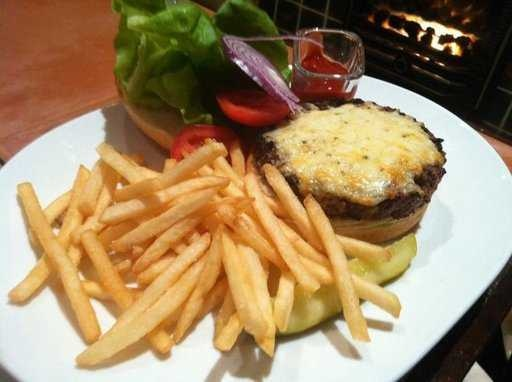hamburger: (59, 12, 456, 200)
